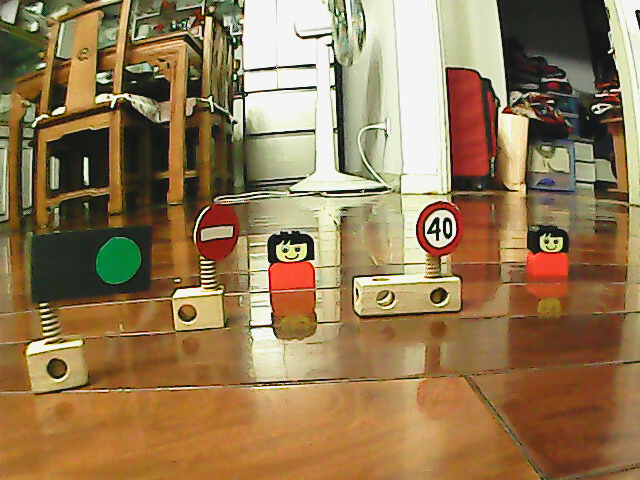Green Traffic Light: (91, 233, 147, 289)
Person: (264, 228, 318, 293), (523, 222, 571, 279)
Speed Limit 40: (414, 199, 466, 258)
Stop Sign: (191, 201, 241, 263)
